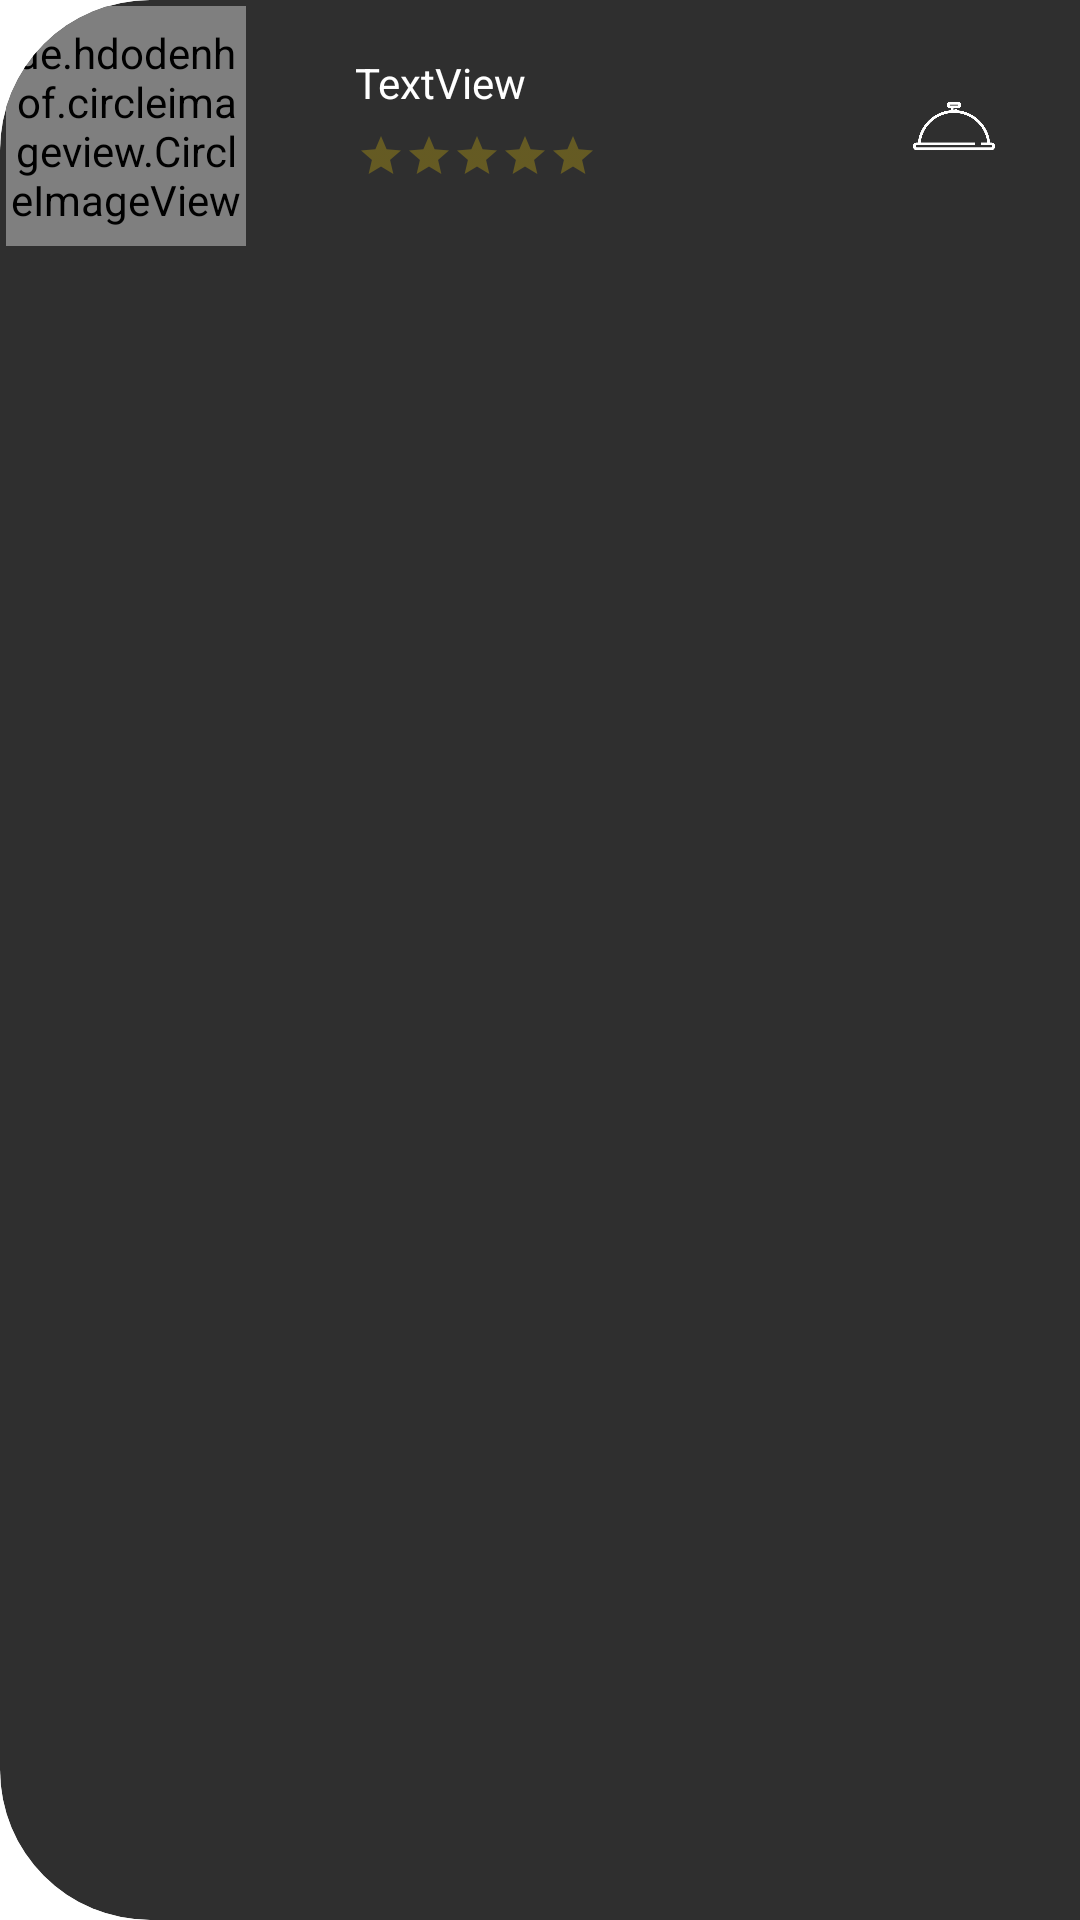

Icon bounding boxes for this 1080 × 1920 phone screenshot, format (x1, y1, x2, y2):
plat: (913, 102, 995, 150)
